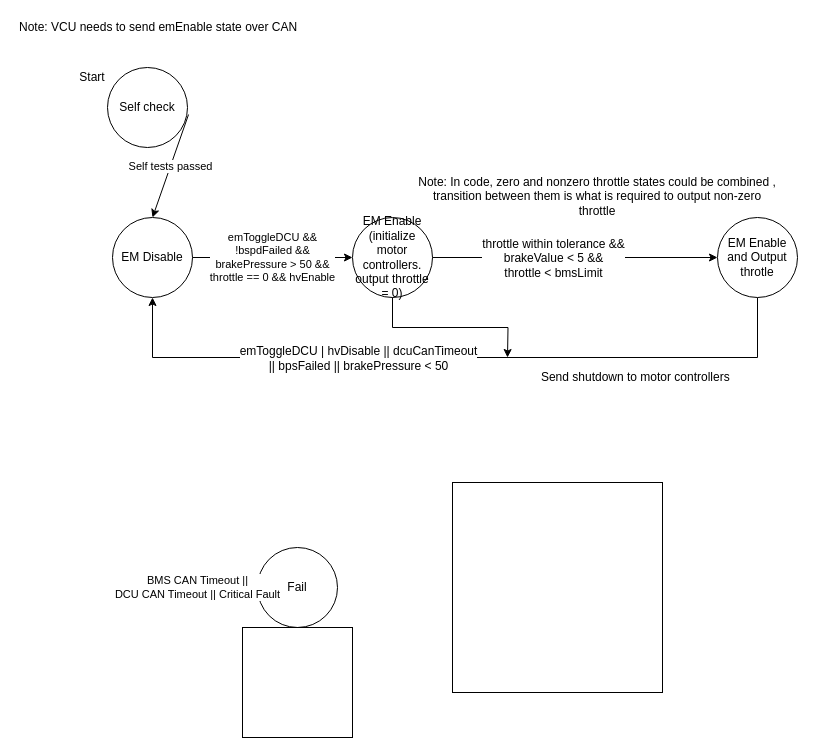
Image size: 815x755. Some labels were removed from this diagram. The box of each missing label's shape, as (x1, y1, x2, y2) in pixels:
Require power cycle to reset and send shutdown to motor controllers: (242, 626, 352, 738)
Self Tests: Brake pressure valid Brake potentiometer valid: (452, 482, 662, 692)
